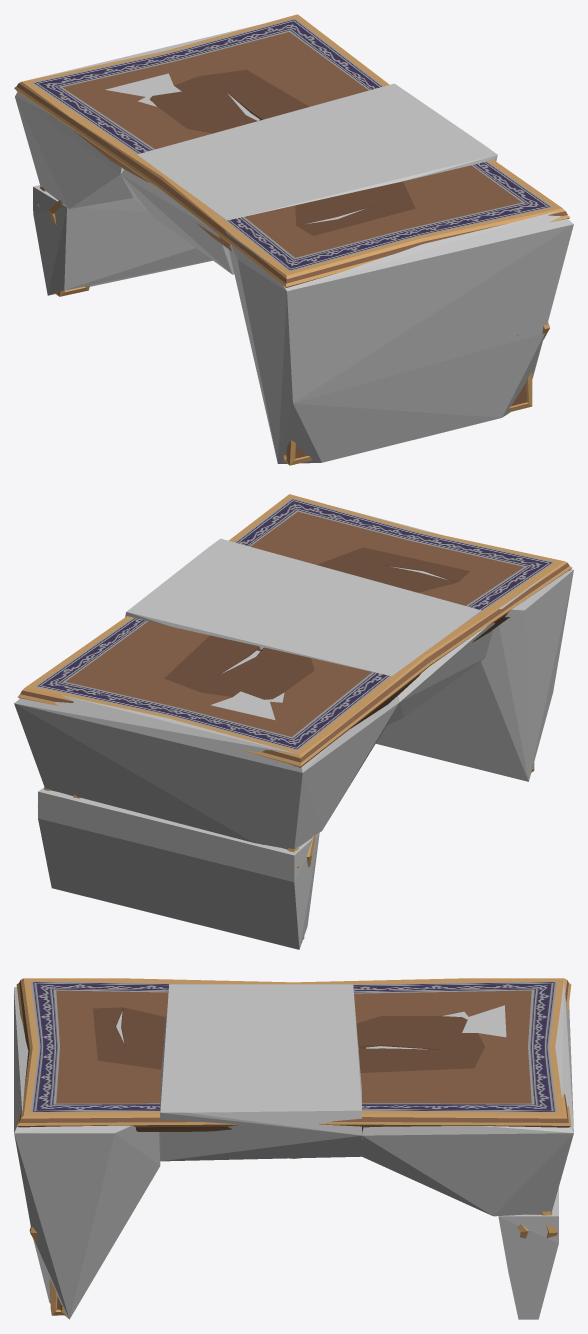
File: SM_Prop_Desk_03.fbx
The picture shows the model from 3 angles, top to bottom: view 1: azimuth 30°, elevation 25°; view 2: azimuth 150°, elevation 25°; view 3: azimuth 270°, elevation 25°; orthographic projection. The views are drawn at different scales.
Parts seen in each view (by area): view 1: SM_Prop_Desk_03_ConvexHulls, SM_Prop_Desk_03; view 2: SM_Prop_Desk_03_ConvexHulls, SM_Prop_Desk_03; view 3: SM_Prop_Desk_03_ConvexHulls, SM_Prop_Desk_03.
Boxes of the visible parts, x1=… form: SM_Prop_Desk_03_ConvexHulls: x1=15, y1=24, x2=573, y2=463; SM_Prop_Desk_03: x1=14, y1=14, x2=570, y2=465; SM_Prop_Desk_03_ConvexHulls: x1=14, y1=508, x2=573, y2=949; SM_Prop_Desk_03: x1=18, y1=494, x2=571, y2=939; SM_Prop_Desk_03_ConvexHulls: x1=14, y1=980, x2=573, y2=1319; SM_Prop_Desk_03: x1=16, y1=978, x2=571, y2=1315.
Bounding box in the file's own units: 126 × 209 × 89.18.
2 materials, 1 textured.
